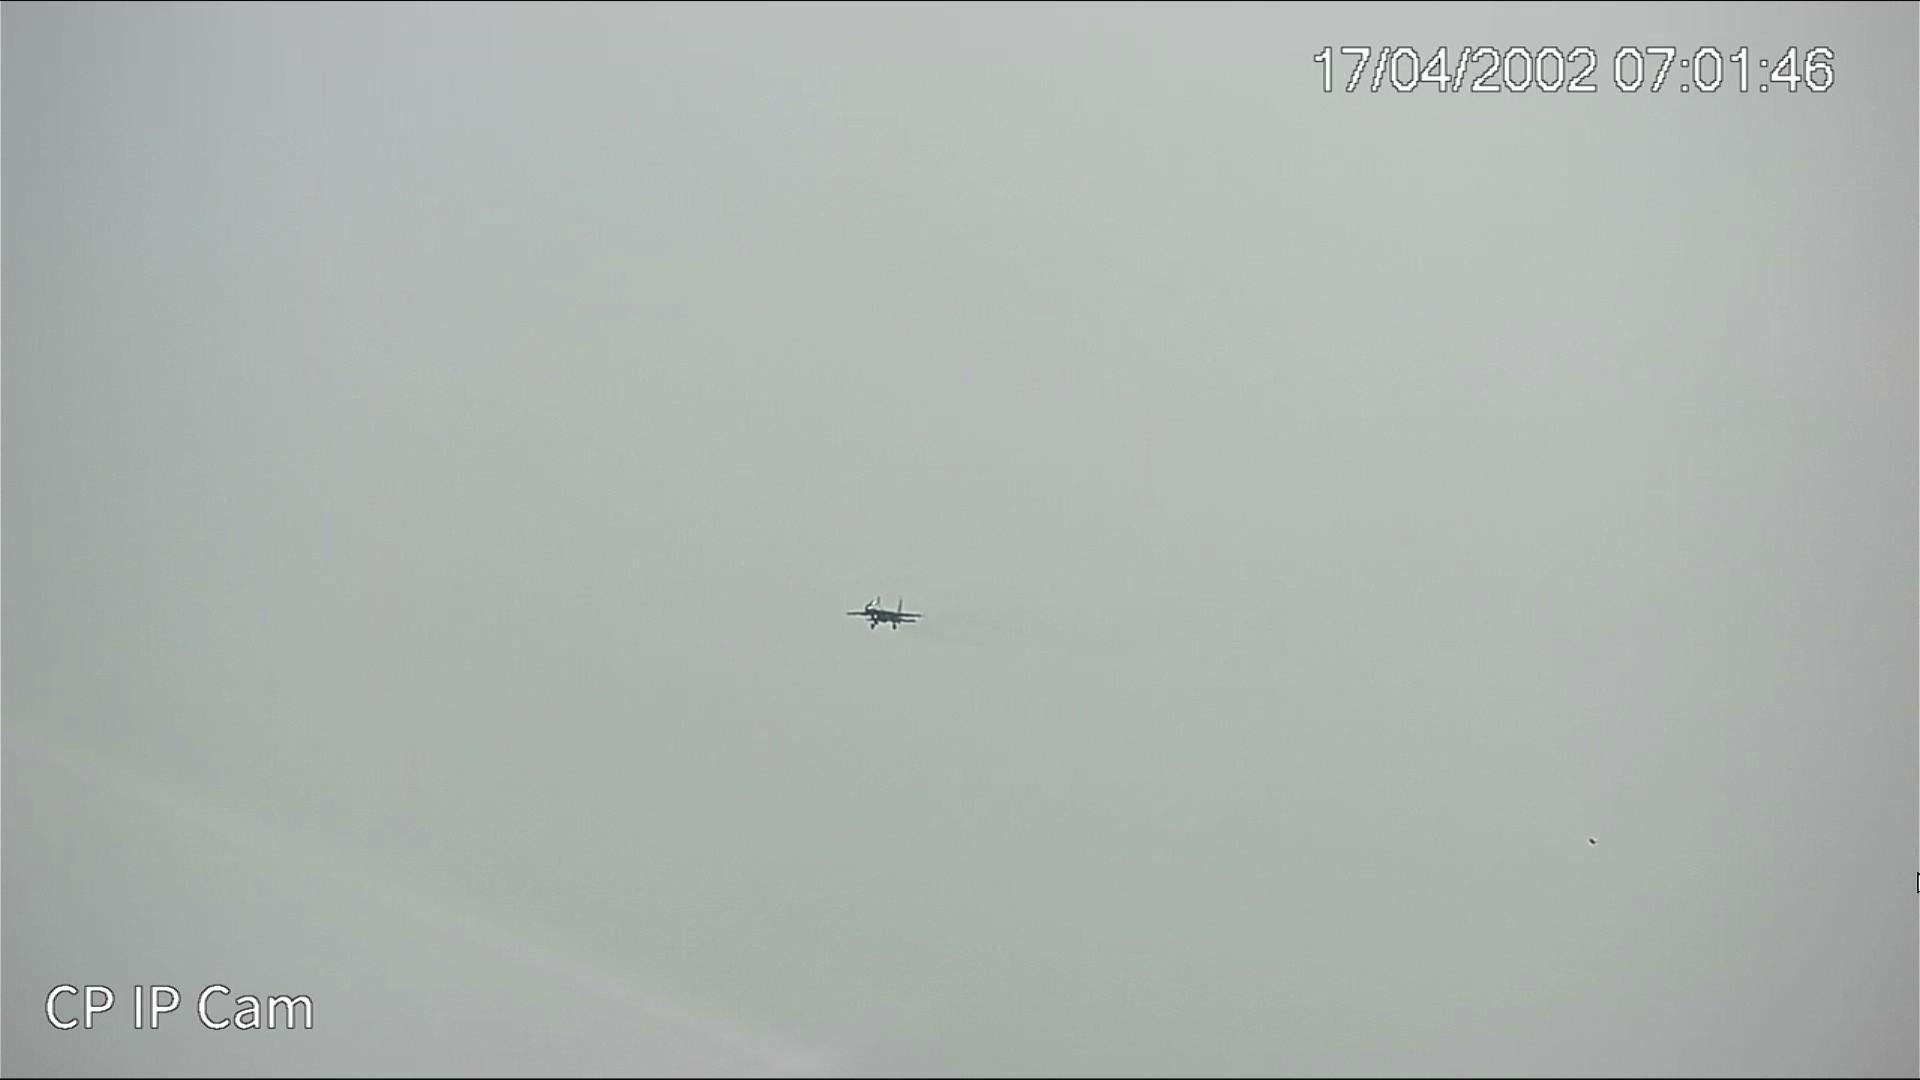SU_30: (847, 595, 923, 632)
